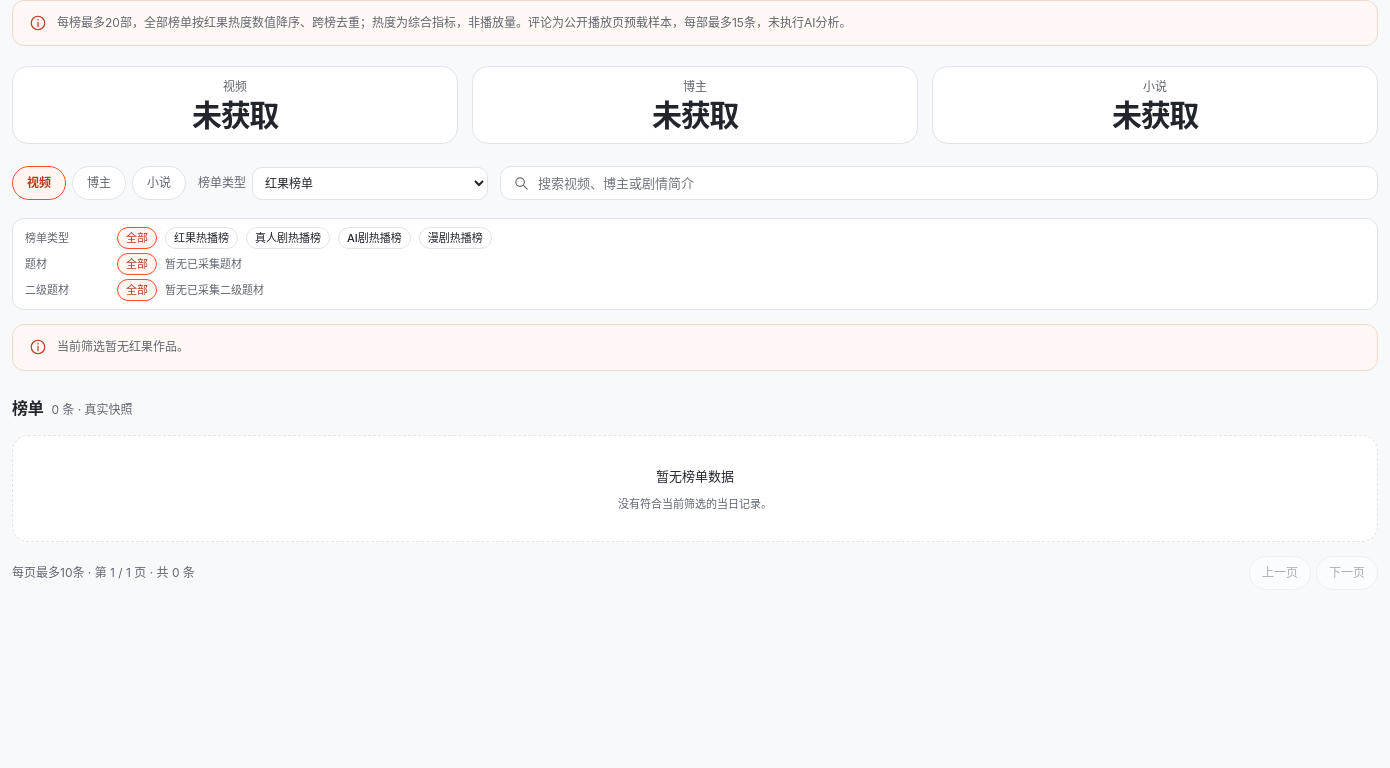
Scenario: 关键词缺播放量时明确拒绝成榜，不引导当作达人更新
Select "已采集视频榜单" in the dropdown labelled "榜单类型" at (370, 183), box [252, 167, 488, 200]
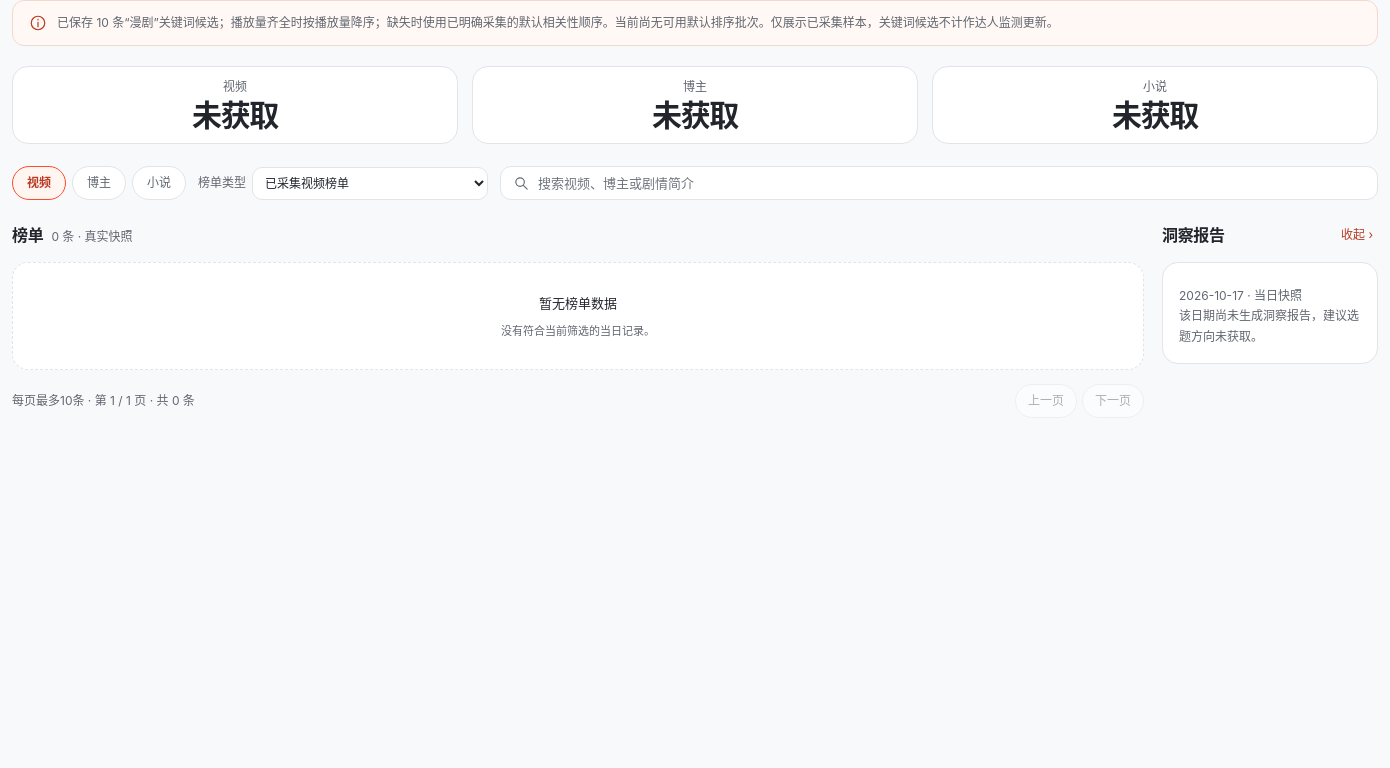
Now the text "当前尚无可用默认排序批次" is shown, box [615, 15, 771, 30]
Now the text "关键词候选不计作达人监测更新" is shown, box [771, 15, 1059, 30]
